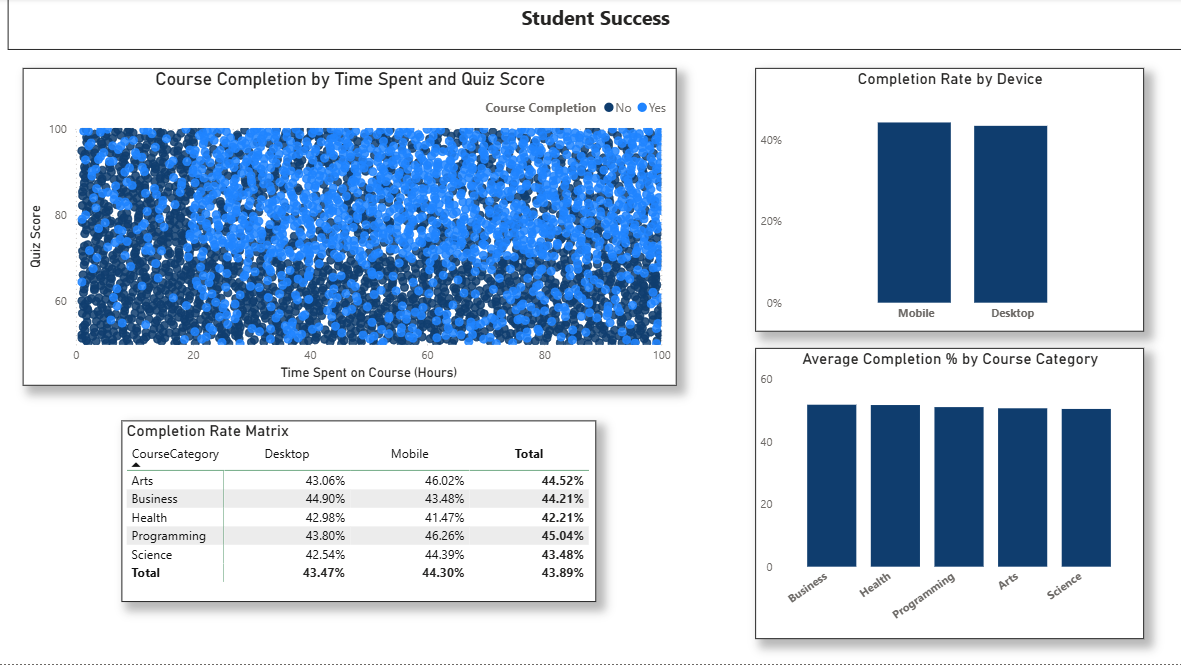

What the dashboard file says about the page in this screenshot:
{"tool":"powerbi","page":{"name":"Student Success","canvas":[1280,720],"ordinal":1},"visuals":[{"type":"textbox","box":[9.6,0,1270.7,56.3],"z":0},{"type":"scatterChart","title":"Course Completion by Time Spent and Quiz Score","fields":{"X":["student_data_clean.TimeSpentOnCourse"],"Y":["student_data_clean.QuizScores"],"Series":["student_data_clean.Course Completion Text"]},"box":[25.7,75.6,706.3,343],"z":1000},{"type":"columnChart","title":"Completion Rate by Device","fields":{"Category":["student_data_clean.Device Name"],"Y":["student_data_clean.Completion Rate"]},"box":[817.1,75.6,420,285],"z":2000},{"type":"columnChart","title":"Average Completion % by Course Category","fields":{"Category":["student_data_clean.CourseCategory"],"Y":["student_data_clean.Average Completion %"]},"box":[817.1,378.1,420,314.7],"z":3000},{"type":"pivotTable","title":"Completion Rate Matrix","fields":{"Rows":["student_data_clean.CourseCategory"],"Columns":["student_data_clean.Device Name"],"Values":["student_data_clean.Completion Rate"]},"box":[132.3,456.5,513.2,195.8],"z":4000}]}

Visuals, with their boxes in screenshot pixels (x1, y1, x2, y2), scaled from the page's 1280x720 canvas onto the 1181x665 screenshot:
textbox: BBox(9, 0, 1180, 52)
"Course Completion by Time Spent and Quiz Score" scatterChart: BBox(24, 70, 675, 387)
"Completion Rate by Device" columnChart: BBox(754, 70, 1141, 333)
"Average Completion % by Course Category" columnChart: BBox(754, 349, 1141, 640)
"Completion Rate Matrix" pivotTable: BBox(122, 422, 596, 602)
